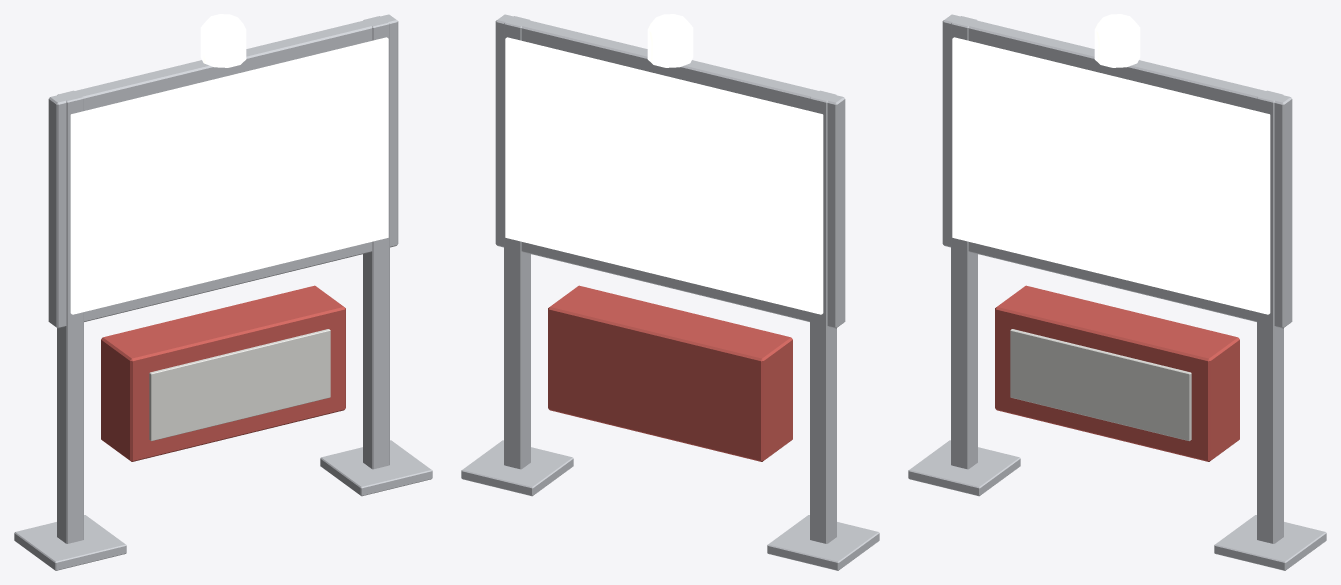
File: offshore-oil-rig-and-platform-muster-point-board-858e4810__37052.glb
The picture shows the model from 3 angles, left to right: view 1: azimuth 30°, elevation 25°; view 2: azimuth 150°, elevation 25°; view 3: azimuth 330°, elevation 25°; orthographic projection.
Visible parts, largest first — view 1: muster-point-board; view 2: muster-point-board; view 3: muster-point-board.
Part boxes in pixels (<box>): muster-point-board: <box>14,14,432,570</box>; muster-point-board: <box>461,14,879,570</box>; muster-point-board: <box>908,14,1326,570</box>.
Size of the model in its own units: 2.1 by 2.6 by 0.3999.
